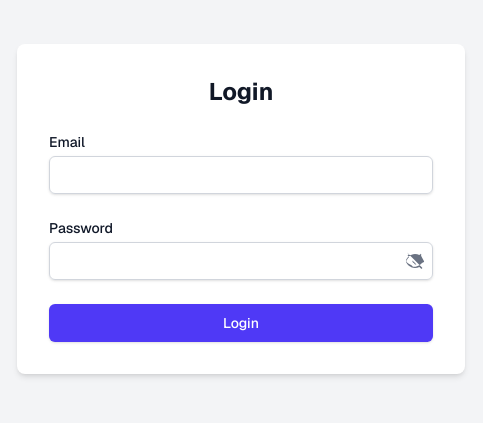
Test case: LoginPage › Basic Form Elements › should show validation errors for empty fields
This screenshot has width=483, height=423.
Click the button "Login": (241, 323) [49,304,433,342]
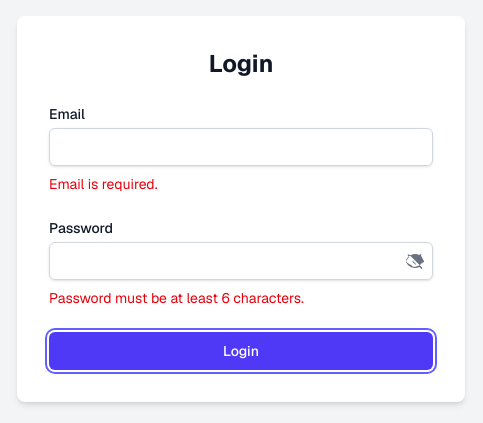
Expected: the text "Email is required." is shown, [49,175,158,193]
Expected: the text "Password must be at least 6 characters." is shown, [49,289,304,307]
